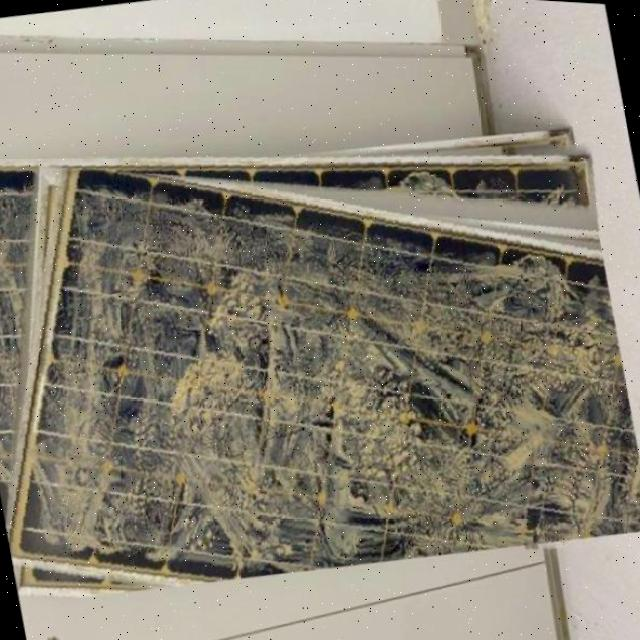Anomaly Solar Panel: (0, 157, 640, 598)
Surface Contaminant: (0, 154, 640, 598)
